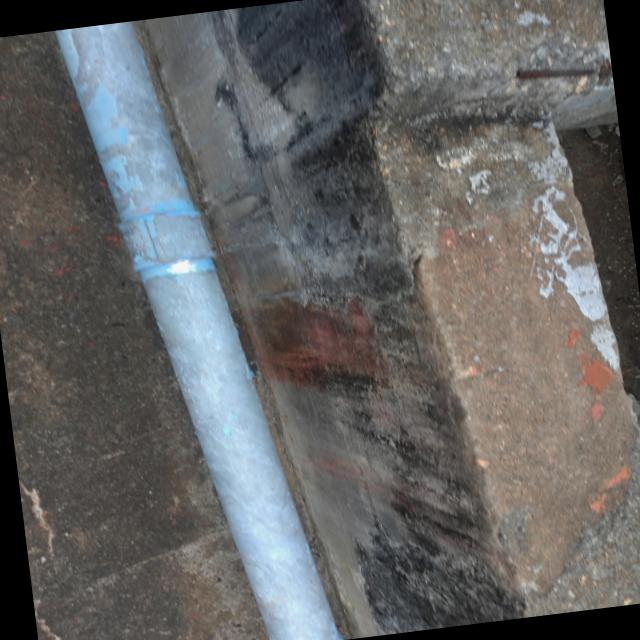gas: (50, 21, 335, 640)
